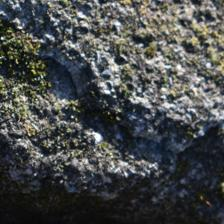Crack: (22, 30, 169, 132)
